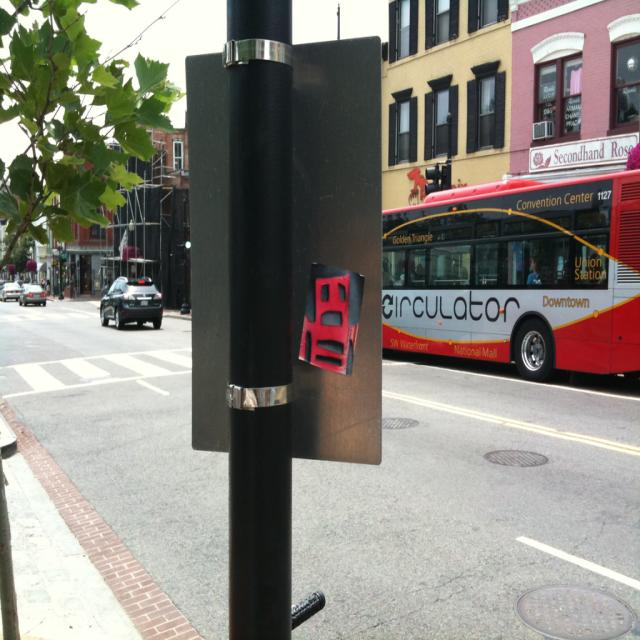car: (95, 266, 157, 326), (17, 279, 44, 306)
